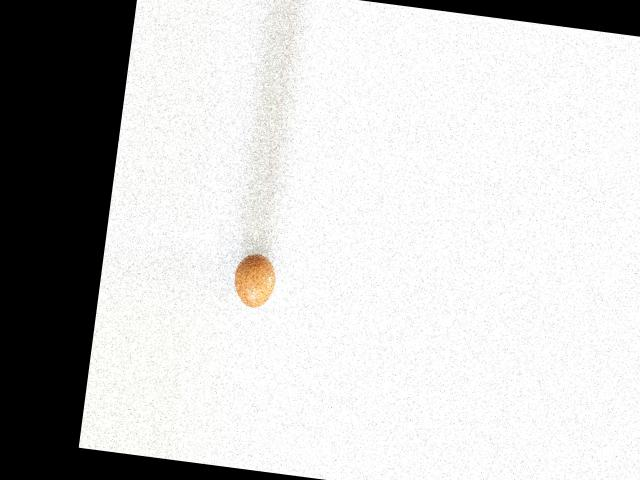egg: (230, 250, 277, 310)
